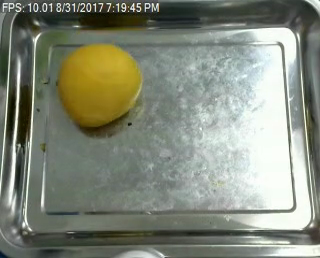Mango: (55, 39, 144, 127)
